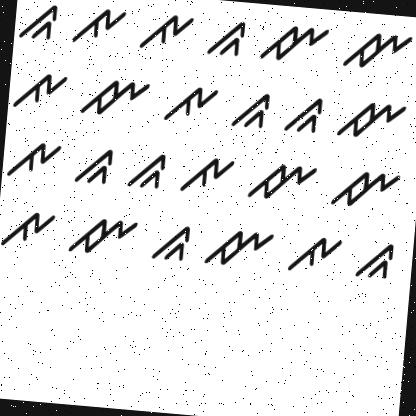a: (282, 228, 353, 283), (133, 0, 197, 57), (5, 129, 67, 186), (157, 74, 223, 127), (171, 144, 235, 198), (67, 0, 132, 52), (9, 62, 72, 114), (0, 203, 61, 252)
ngga: (350, 232, 402, 288), (120, 144, 170, 202), (146, 216, 198, 271), (68, 144, 118, 194), (282, 92, 330, 140), (16, 1, 67, 46), (204, 16, 251, 63), (230, 88, 274, 138)
nja: (329, 160, 408, 218), (62, 210, 141, 268), (198, 216, 275, 274), (242, 153, 320, 210), (334, 90, 412, 146), (341, 21, 416, 77), (258, 18, 332, 74), (76, 70, 152, 124)
